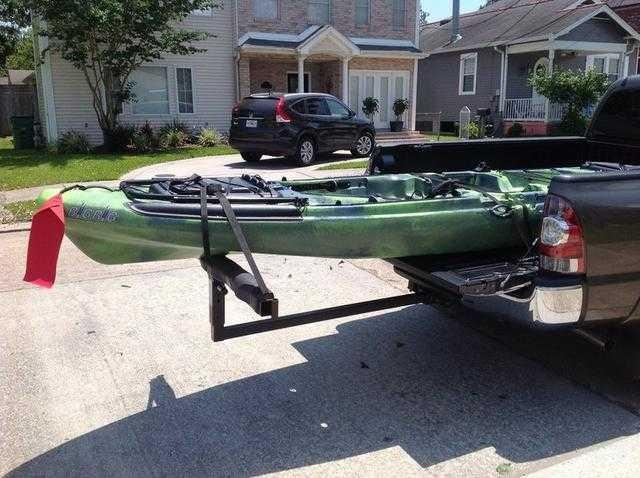kayak: (22, 167, 556, 313)
